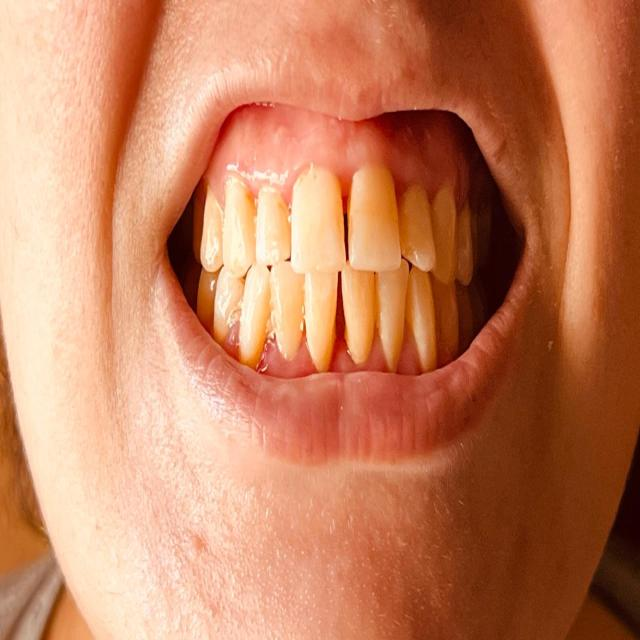tooth: (288, 167, 350, 271), (347, 162, 406, 271), (245, 270, 302, 355), (339, 271, 377, 364), (378, 264, 408, 372), (223, 175, 258, 267), (257, 185, 291, 266), (307, 273, 335, 363), (401, 197, 435, 264), (434, 190, 458, 284), (414, 271, 436, 364), (435, 284, 460, 359), (216, 269, 242, 335), (202, 188, 224, 263)
